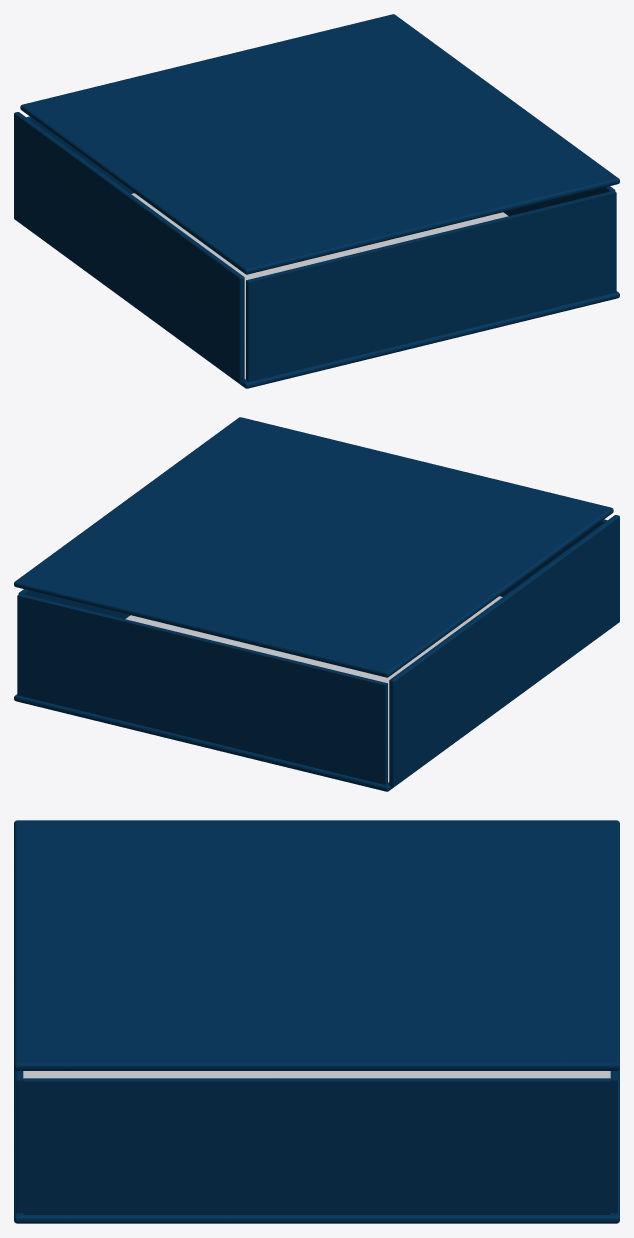
File: volume-3-storage.glb
The picture shows the model from 3 angles, top to bottom: view 1: azimuth 30°, elevation 25°; view 2: azimuth 150°, elevation 25°; view 3: azimuth 270°, elevation 25°; orthographic projection. The views are drawn at different scales.
Parts seen in each view (by area): view 1: Cover_left, Cover_box_side, Spine_3_in, Cover_right, Inside_right, Cover_box_end; view 2: Cover_left, Cover_box_side.001, Spine_3_in, Cover_right, Inside_right, Cover_box_end; view 3: Cover_left, Cover_box_end, Cover_right, Inside_right, Cover_box_side, Cover_box_side.001.
Part boxes in pixels (<box>): Cover_left: <box>20,14,619,274</box>; Cover_box_side: <box>246,190,616,381</box>; Spine_3_in: <box>14,112,244,384</box>; Cover_right: <box>240,291,619,388</box>; Inside_right: <box>131,193,508,379</box>; Cover_box_end: <box>503,186,615,215</box>; Cover_left: <box>14,417,613,677</box>; Cover_box_side.001: <box>17,593,387,784</box>; Spine_3_in: <box>389,515,619,787</box>; Cover_right: <box>14,694,393,791</box>; Inside_right: <box>125,596,502,782</box>; Cover_box_end: <box>18,589,130,618</box>; Cover_left: <box>14,820,619,1070</box>; Cover_box_end: <box>23,1078,610,1214</box>; Cover_right: <box>14,1068,619,1223</box>; Inside_right: <box>21,1071,612,1213</box>; Cover_box_side: <box>16,1070,23,1213</box>; Cover_box_side.001: <box>610,1070,617,1213</box>.
Size of the model in its own units: 0.284 by 0.0853 by 0.2921.
Materials: 2 (2 with a texture image).
